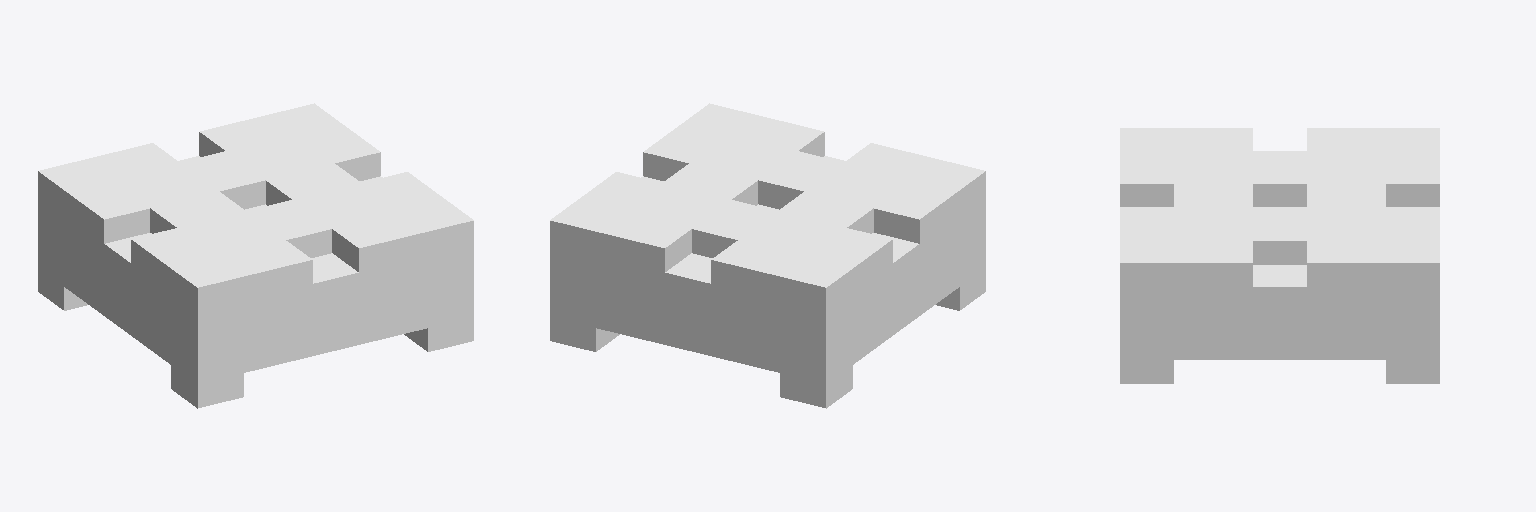
Rendered from Tile6.obj.
3 renders of one model, left to right at view 1: azimuth 30°, elevation 25°; view 2: azimuth 150°, elevation 25°; view 3: azimuth 270°, elevation 25°, orthographic.
Parts seen in each view (by area): view 1: Tile6; view 2: Tile6; view 3: Tile6.
Boxes of the visible parts, <box> form: Tile6: <box>38,103,473,408</box>; Tile6: <box>550,103,985,408</box>; Tile6: <box>1120,128,1439,383</box>.
Size of the model in its own units: 12 by 5 by 12.